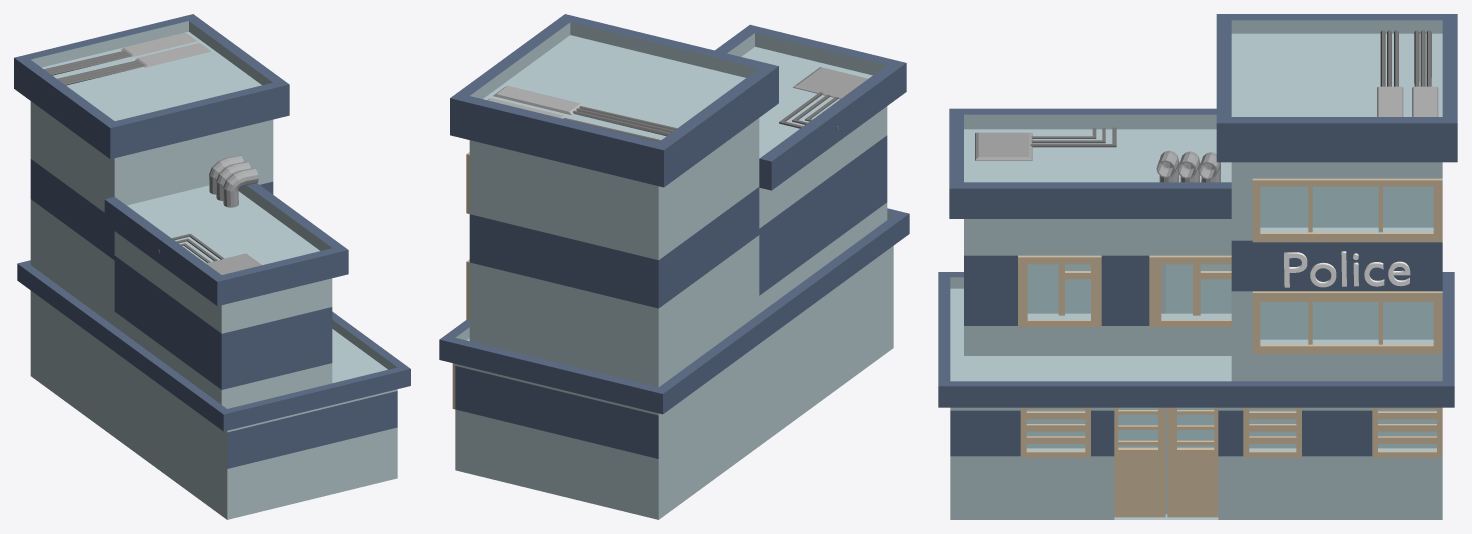
File: police.fbx
3 renders of one model, left to right at view 1: azimuth 30°, elevation 25°; view 2: azimuth 150°, elevation 25°; view 3: azimuth 270°, elevation 25°, orthographic. The views are drawn at different scales.
Visible parts, largest first — view 1: Cube, Plane.001, Plane.002, Plane.005, Plane.003, Plane.004, Plane.006; view 2: Cube, Plane.003, Plane.001; view 3: Cube, Text, Plane.003, Plane.001, Plane.002, Plane.005, Plane.004.
Part boxes in pixels (x1,y1,x2,y2): Cube: (14, 14, 410, 519); Plane.001: (135, 43, 210, 67); Plane.002: (121, 32, 196, 57); Plane.005: (223, 168, 258, 207); Plane.003: (206, 253, 261, 274); Plane.004: (216, 161, 250, 200); Plane.006: (209, 155, 243, 194); Cube: (439, 14, 909, 519); Plane.003: (793, 67, 867, 99); Plane.001: (493, 86, 583, 115); Cube: (938, 14, 1457, 519); Text: (1284, 251, 1410, 287); Plane.003: (975, 132, 1032, 160); Plane.001: (1377, 86, 1403, 116); Plane.002: (1412, 86, 1438, 116); Plane.005: (1156, 150, 1179, 182); Plane.004: (1177, 151, 1200, 182).
Size of the model in its own units: 779 by 1242 by 1477.
